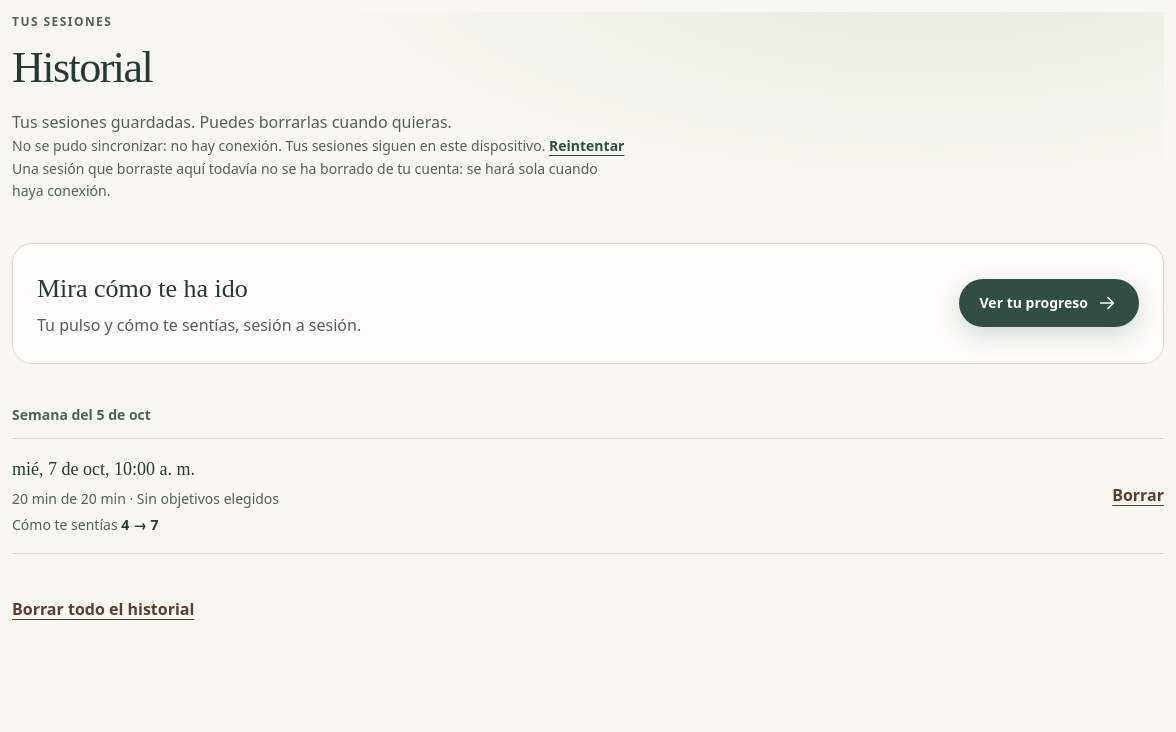
Test: screens that act on the cloud › deletes a session at once and says when its deletion is still on its way to the account
expect the text with test id "pending-deletions" shows "Una sesión que borraste aquí todavía no se ha borrado de tu cuenta: se hará sola cuando haya conexión.": met, box [12, 159, 598, 200]
Click the button "Borrar": point(1138, 496) [1112, 472, 1164, 520]
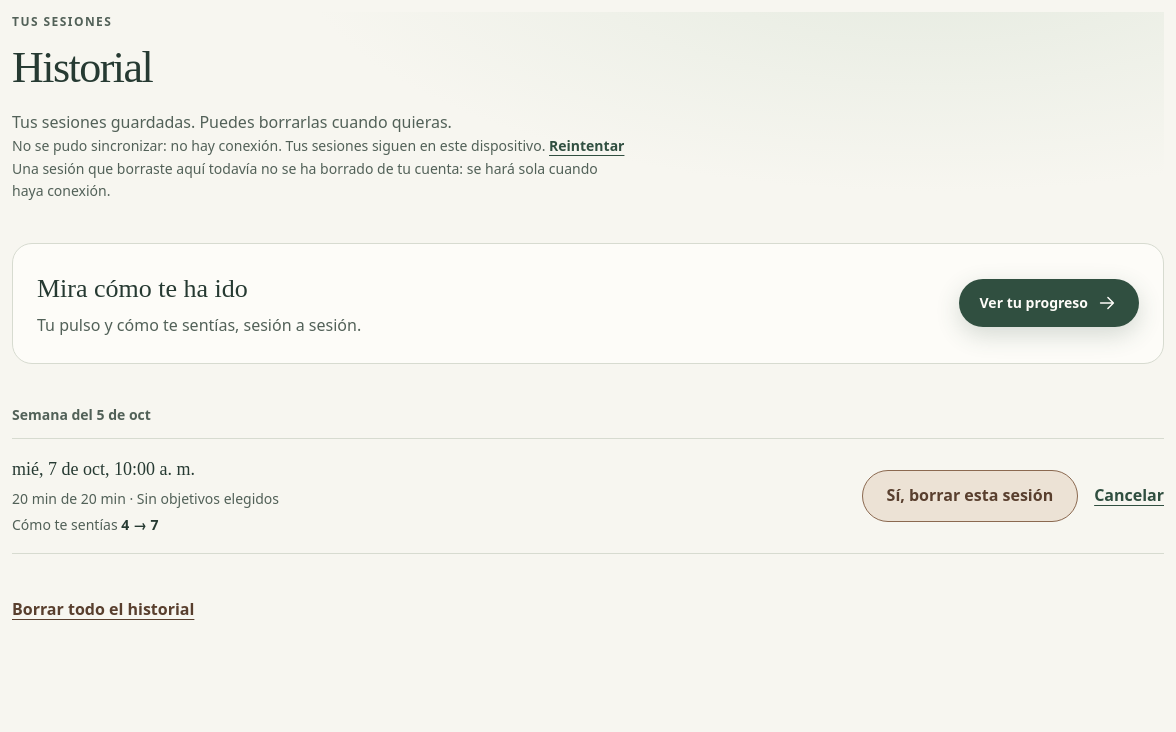
Click the button "Sí, borrar esta sesión": point(970, 496) [862, 470, 1078, 522]
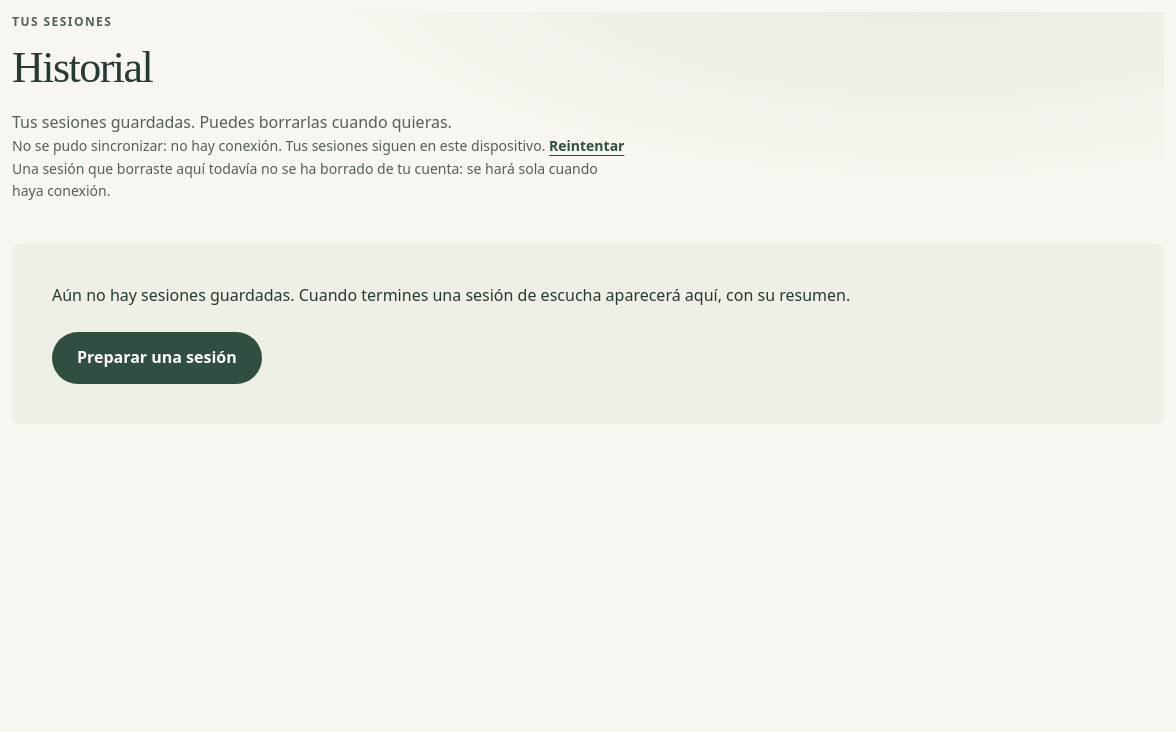
expect the text "Aún no hay sesiones guardadas. Cuando termines una sesión de escucha aparecerá aquí, con su resumen." is shown: met, box [52, 284, 850, 306]
